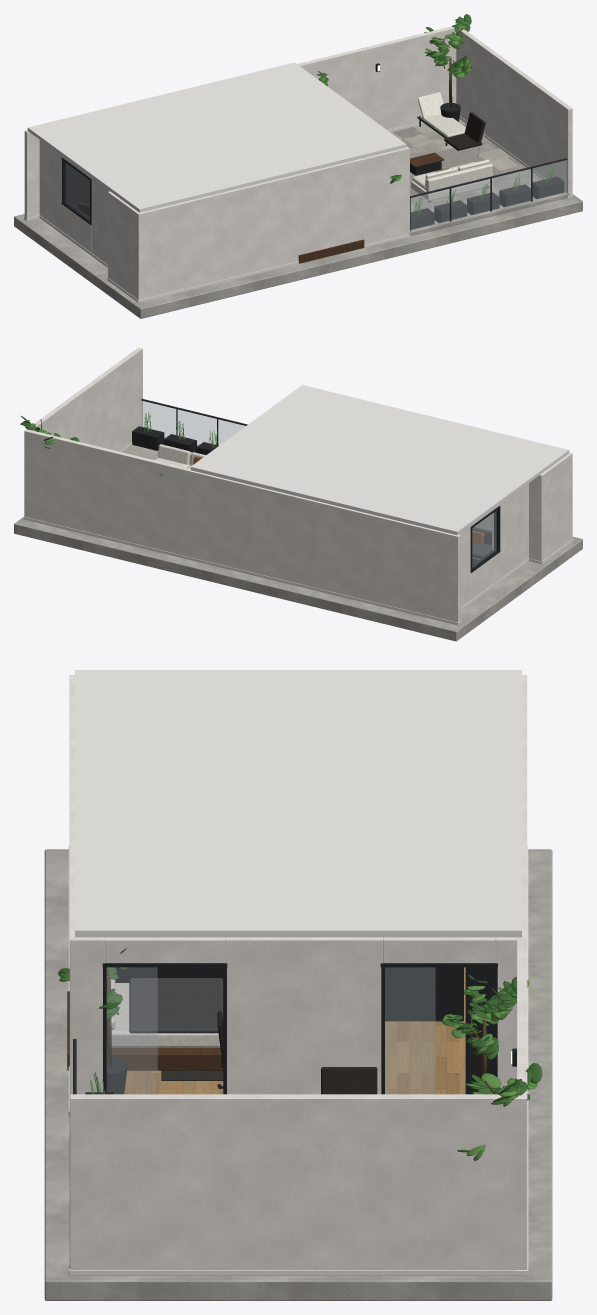
File: apartment.glb
The picture shows the model from 3 angles, top to bottom: view 1: azimuth 30°, elevation 25°; view 2: azimuth 150°, elevation 25°; view 3: azimuth 270°, elevation 25°; orthographic projection. The views are drawn at different scales.
Parts seen in each view (by area): view 1: Ceiling__ceiling, Walls_S__plaster, Static__concrete, Walls_N__plaster, Walls_E__plaster, Walls_W__plaster, Walls_S__glass, Static__paving, Static__linen, Static__pot_black, Static__leaf, Walls_W__glass (+9 smaller); view 2: Walls_N__plaster, Ceiling__ceiling, Static__concrete, Walls_W__plaster, Walls_E__plaster, Walls_S__glass, Walls_N__skirting, Static__pot_black, Walls_W__glass, Static__linen, Walls_W__frame, Static__charcoal (+1 smaller); view 3: Ceiling__ceiling, Walls_E__plaster, Walls_I__plaster, Static__concrete, Walls_I__glass, Static__oak_floor, Static__matte_black, Static__charcoal, Static__leaf, Walls_N__plaster, Walls_I__frame, Walls_E__skirting (+6 smaller).
Part boxes in pixels (left/top/right/bottom): Ceiling__ceiling: left=27, top=62, right=406, bottom=212; Walls_S__plaster: left=138, top=146, right=409, bottom=299; Static__concrete: left=14, top=192, right=582, bottom=318; Walls_N__plaster: left=24, top=26, right=456, bottom=217; Walls_E__plaster: left=456, top=29, right=572, bottom=194; Walls_W__plaster: left=39, top=140, right=142, bottom=299; Walls_S__glass: left=411, top=160, right=566, bottom=230; Static__paving: left=390, top=119, right=542, bottom=223; Static__linen: left=411, top=92, right=493, bottom=200; Static__pot_black: left=410, top=103, right=564, bottom=229; Static__leaf: left=316, top=14, right=553, bottom=213; Walls_W__glass: left=66, top=163, right=89, bottom=219; Walls_N__plaster: left=24, top=429, right=543, bottom=622; Ceiling__ceiling: left=190, top=385, right=569, bottom=535; Static__concrete: left=14, top=437, right=582, bottom=641; Walls_W__plaster: left=459, top=452, right=572, bottom=607; Walls_E__plaster: left=24, top=347, right=142, bottom=516; Walls_S__glass: left=142, top=401, right=245, bottom=446; Walls_N__skirting: left=24, top=516, right=541, bottom=625; Static__pot_black: left=132, top=426, right=218, bottom=454; Walls_W__glass: left=472, top=511, right=496, bottom=567; Static__linen: left=155, top=444, right=493, bottom=550; Walls_W__frame: left=470, top=506, right=500, bottom=572; Static__charcoal: left=472, top=527, right=491, bottom=564; Ceiling__ceiling: left=75, top=670, right=521, bottom=937; Walls_E__plaster: left=70, top=1094, right=526, bottom=1270; Walls_I__plaster: left=70, top=937, right=516, bottom=1094; Static__concrete: left=44, top=849, right=552, bottom=1300; Walls_I__glass: left=107, top=967, right=435, bottom=1093; Static__oak_floor: left=124, top=967, right=465, bottom=1094; Static__matte_black: left=115, top=967, right=493, bottom=1094; Static__charcoal: left=129, top=978, right=223, bottom=1033; Static__leaf: left=58, top=948, right=542, bottom=1152; Walls_N__plaster: left=517, top=675, right=527, bottom=1269; Walls_I__frame: left=102, top=963, right=497, bottom=1094; Walls_E__skirting: left=69, top=1266, right=527, bottom=1275.
Size of the model in its own units: 13.7 by 3.25 by 6.75.
48 materials, 21 textured.
